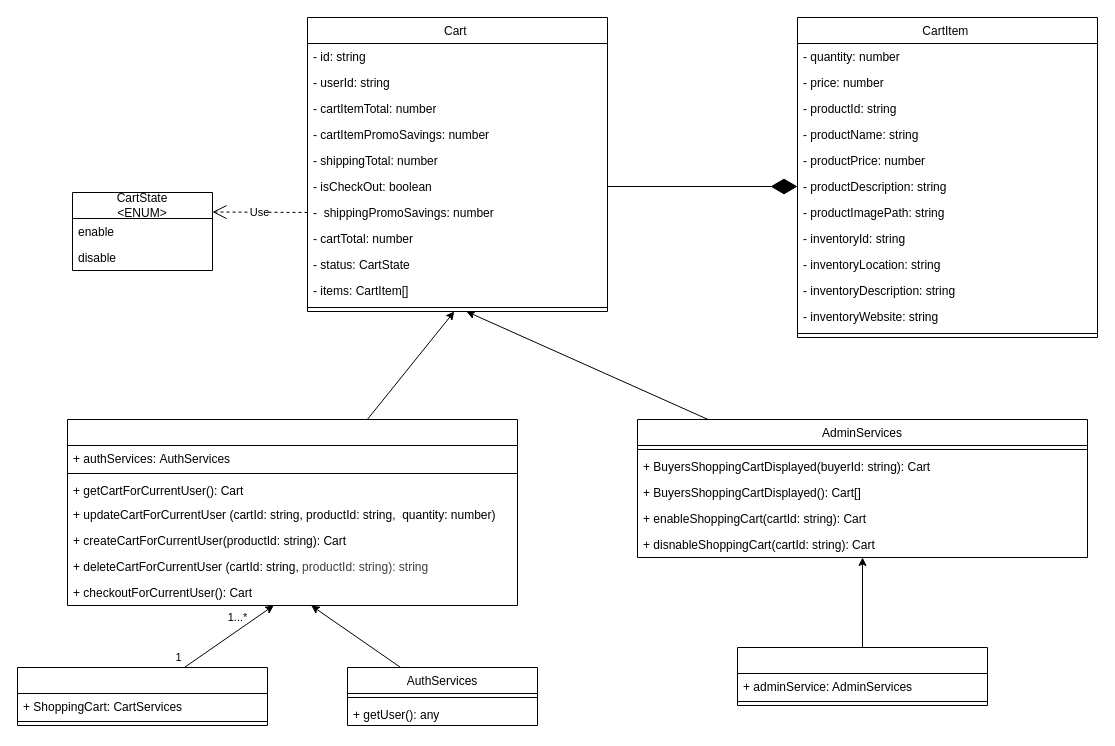
The diagram is 1115 pixels wide and 746 high, and some of its shapes have lost their labels. Here are the shapes that lost their labels. From the top down, the box of each, then its label:
(66, 418, 518, 606): CartServices
(16, 666, 268, 726): Buyers
(736, 646, 988, 706): SysAdmin
